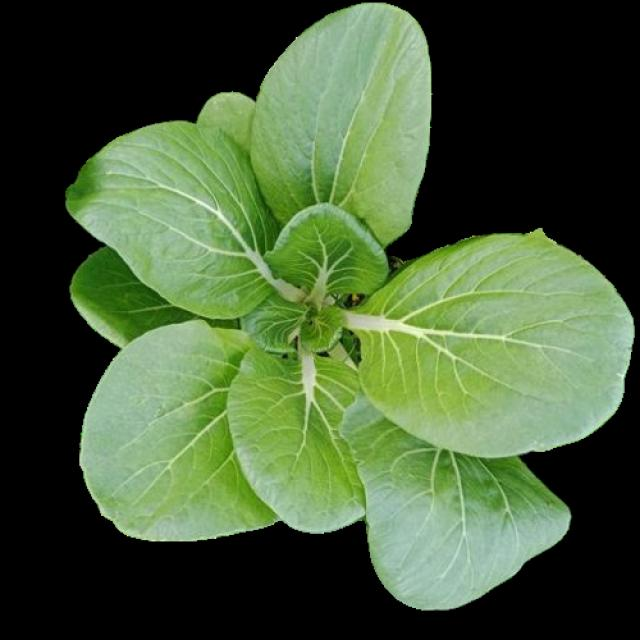healthy: (70, 8, 624, 609)
mature: (69, 5, 630, 608)
